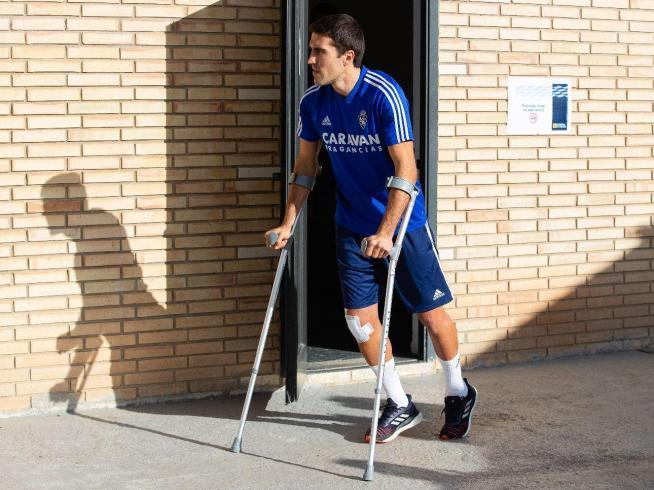crutches: (230, 15, 478, 481)
